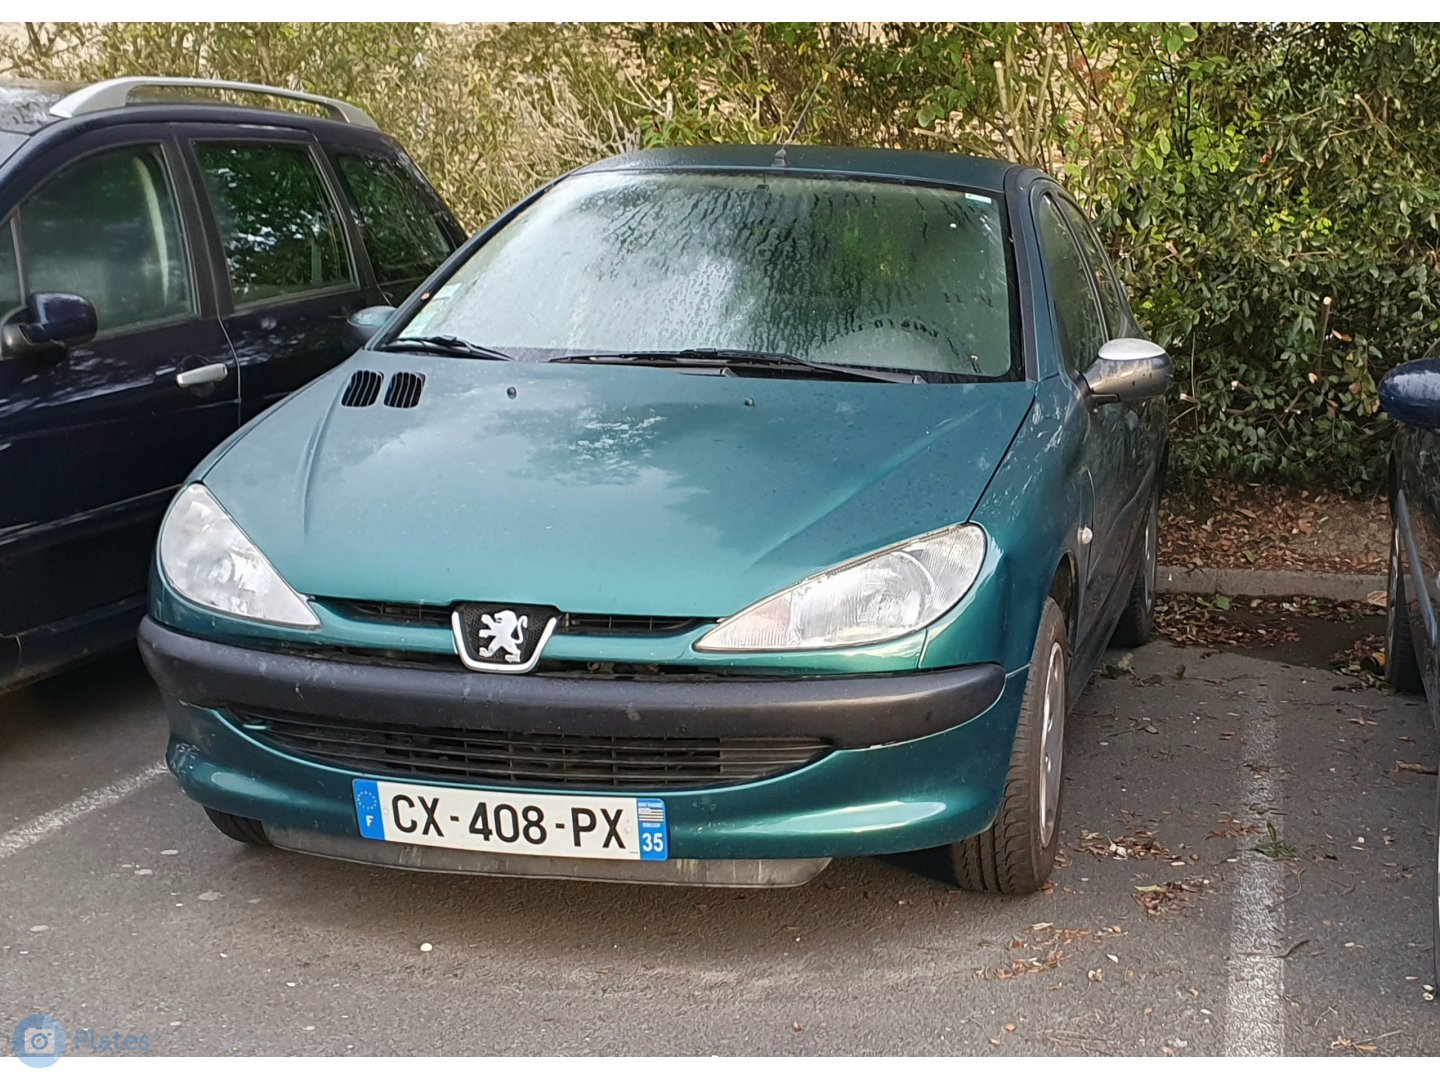licence plate: (348, 775, 672, 861)
